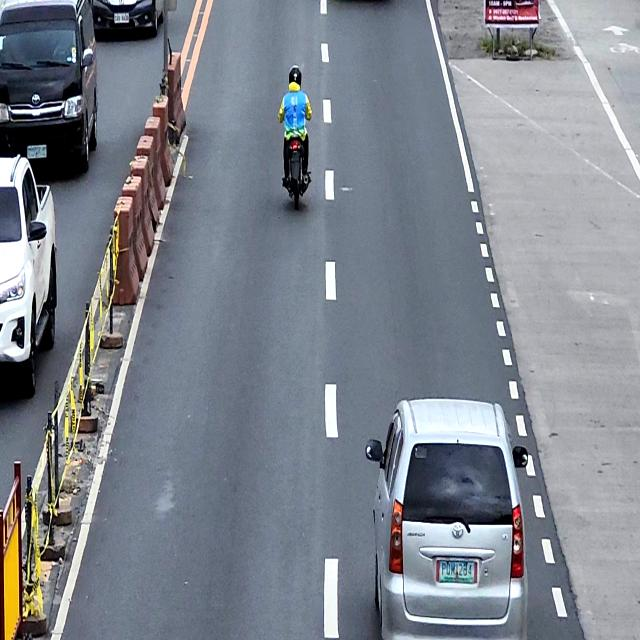Car: (366, 396, 529, 640), (0, 0, 99, 175), (0, 153, 57, 396), (91, 0, 165, 36)
License-Plate: (438, 560, 474, 585), (27, 145, 47, 159), (114, 12, 130, 24)
Motorcycle: (280, 107, 312, 211)
